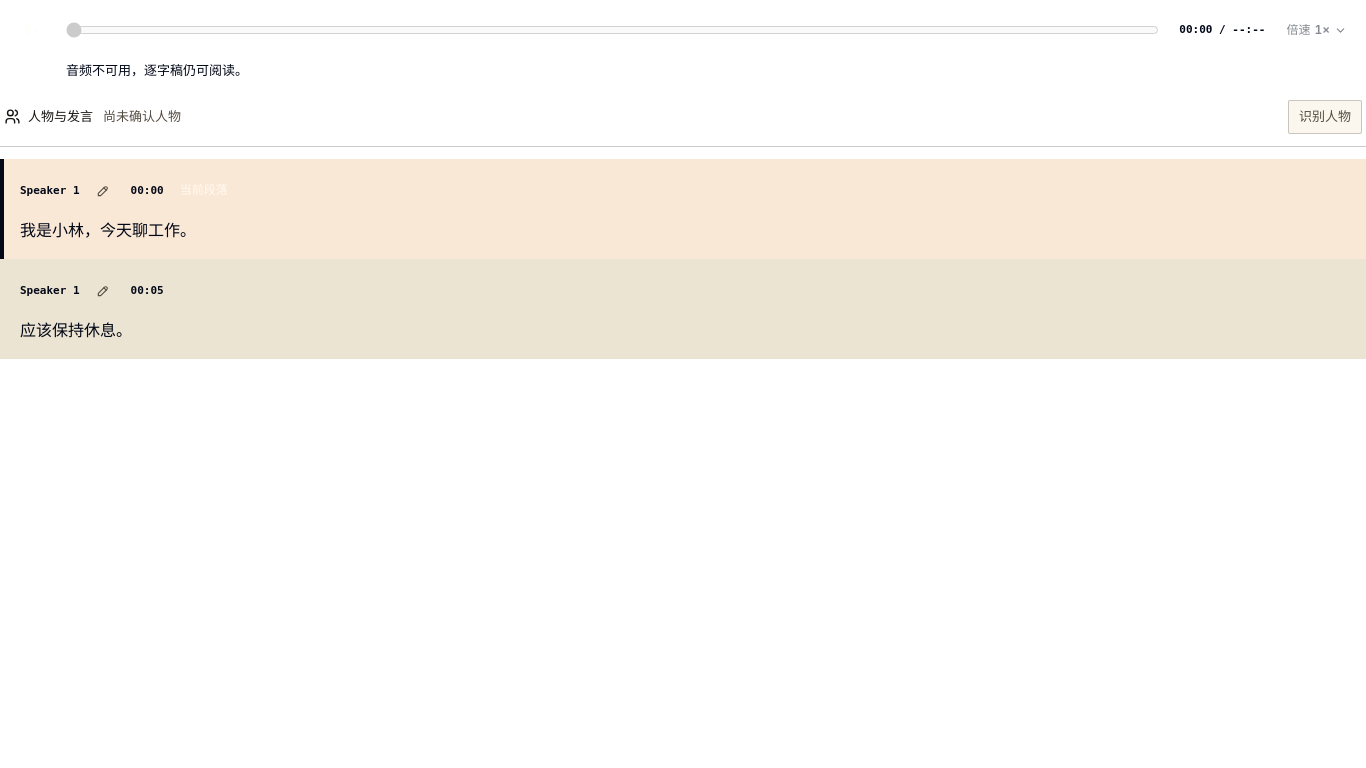
Test: 逐字稿人物确认 › closes the review modal after a successful apply
The image size is (1366, 768).
Click the button "识别人物".
click(1325, 117)  # box x1=1288 y1=100 x2=1362 y2=134
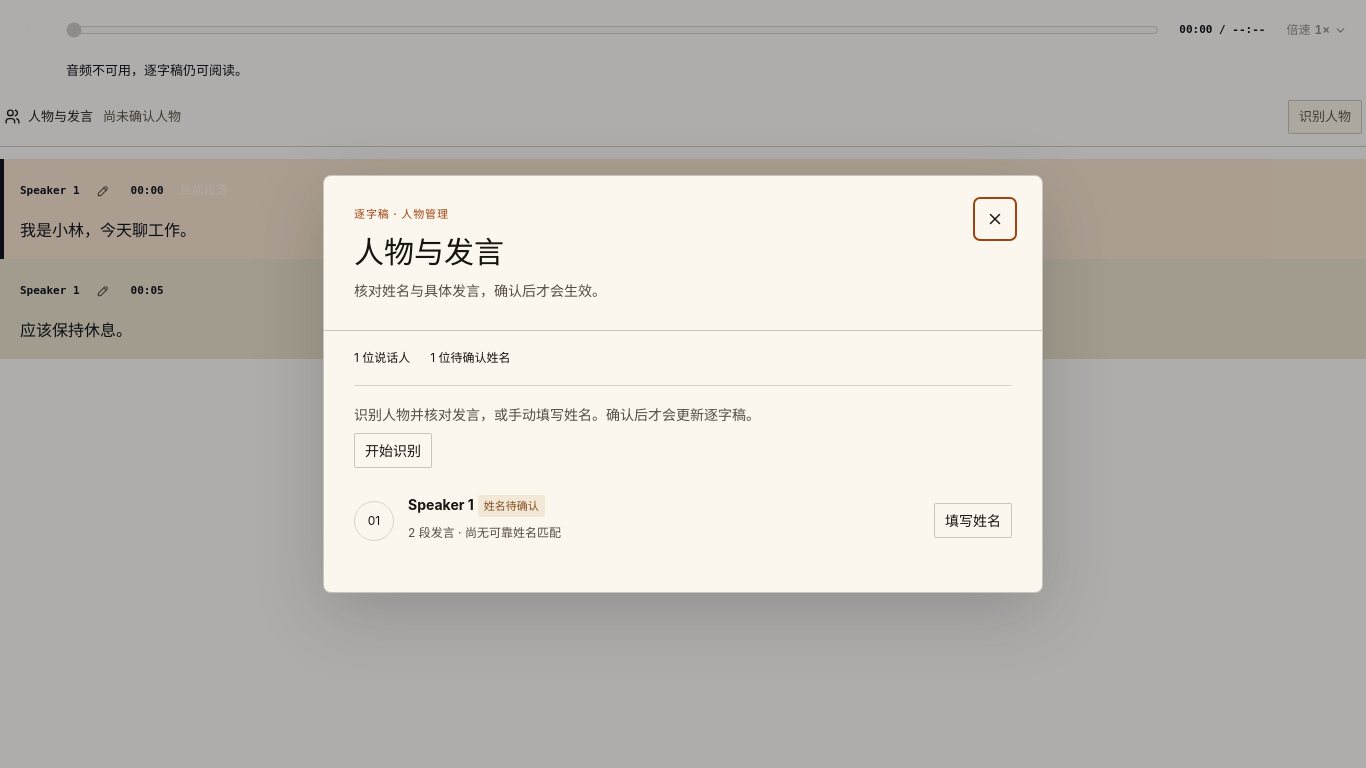
Click the button "开始识别".
click(393, 450)  # box x1=354 y1=432 x2=432 y2=468
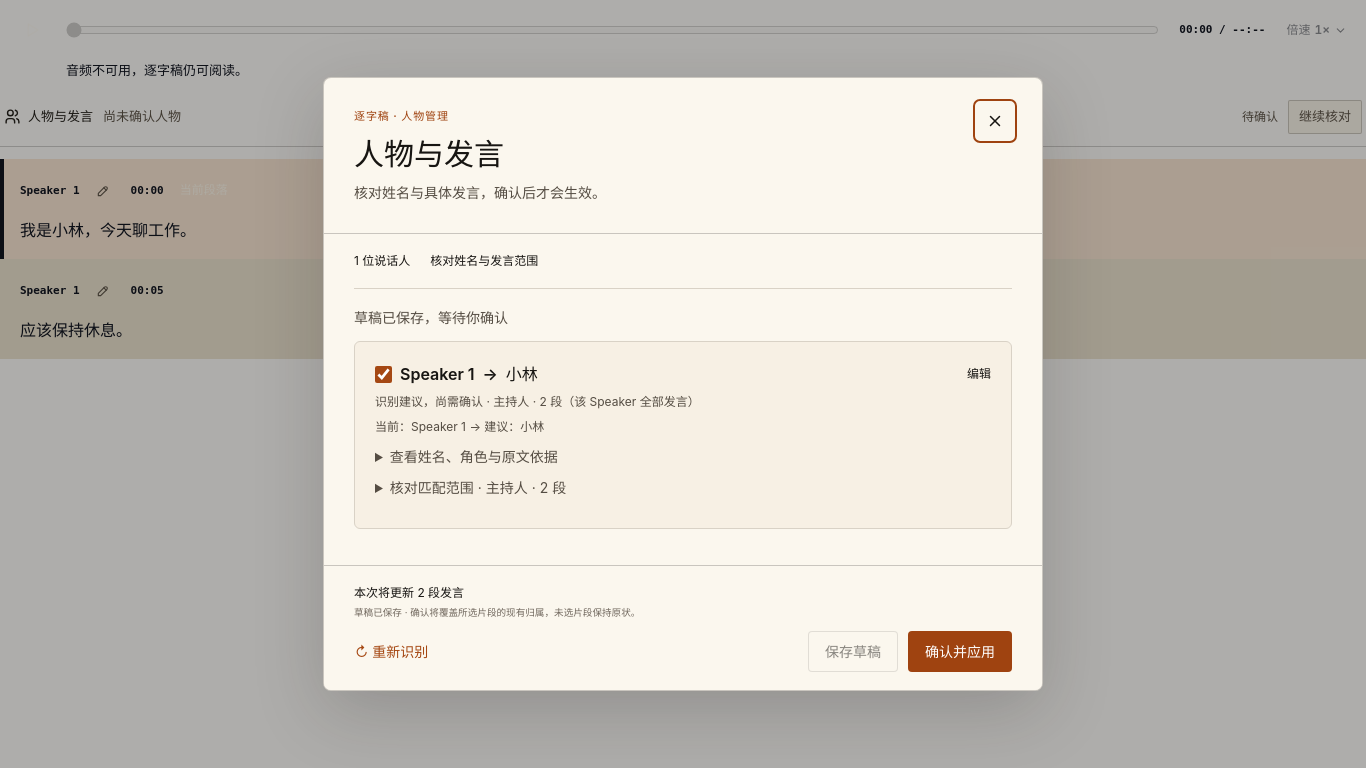
Click the button "确认并应用".
click(960, 651)  # box x1=908 y1=631 x2=1012 y2=672
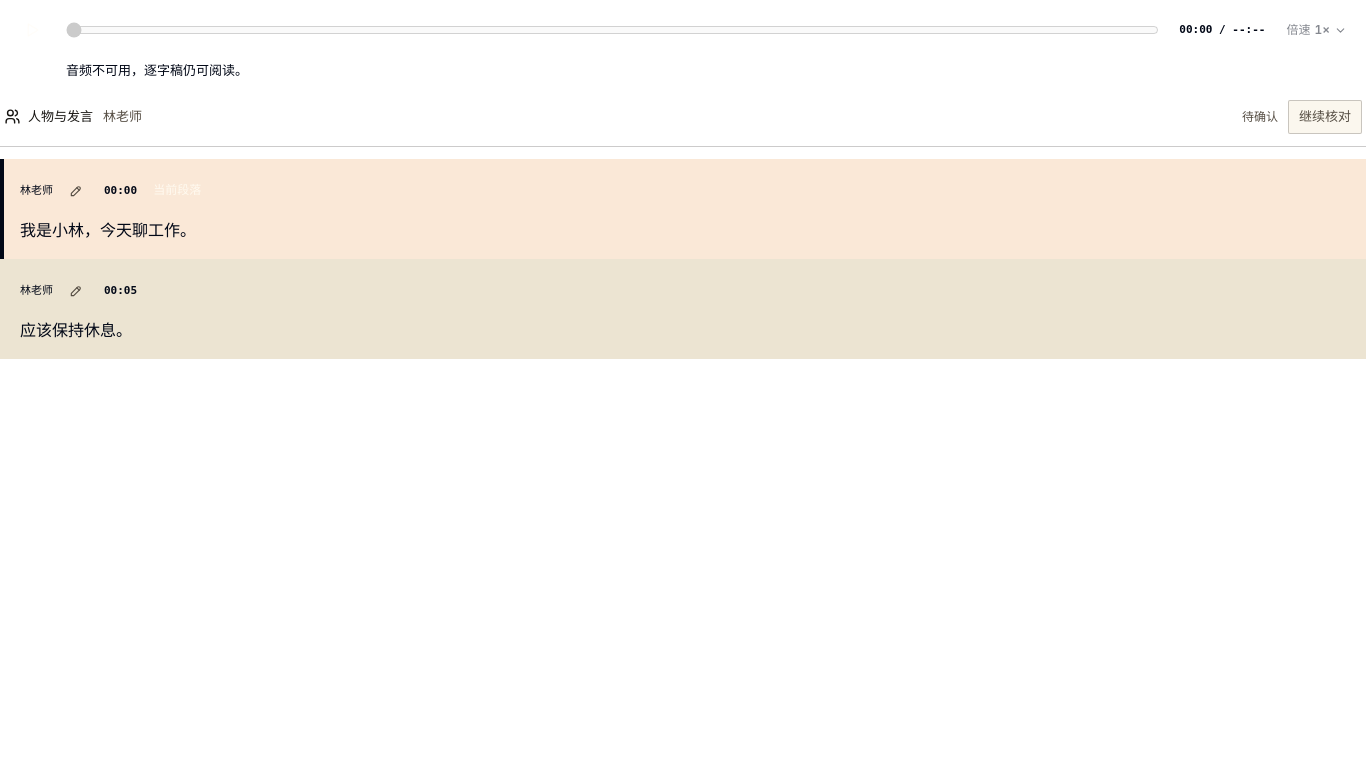
Now the dialog "人物与发言核对" is gone
